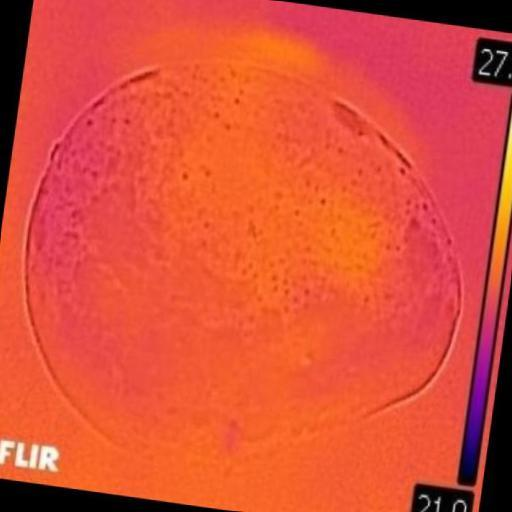alphanso: (26, 57, 461, 460)
